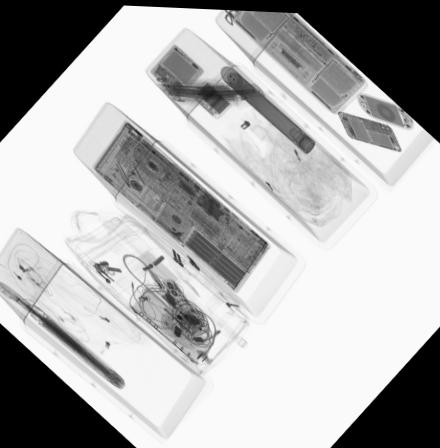Powerbank: (191, 77, 233, 119)
